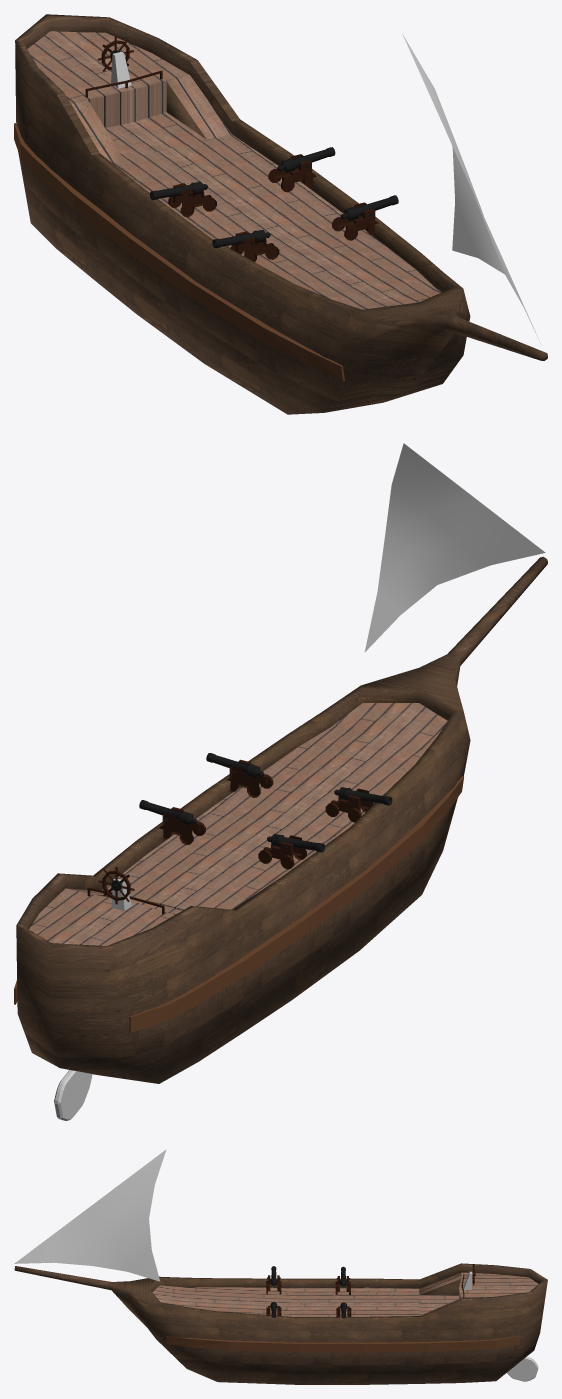
File: hull.obj
The picture shows the model from 3 angles, top to bottom: view 1: azimuth 30°, elevation 25°; view 2: azimuth 150°, elevation 25°; view 3: azimuth 270°, elevation 25°; orthographic projection. The views are drawn at different scales.
Visible parts, largest first — view 1: Cube_Cube_Hull, Cube_Cube_Deck, Cube.003_Cube.003_Hull2, Plane.006_Plane.002_SailCloth, CannonBarrel_Cylinder.002_Gunmetal, Cube.006_Cube.005_Wood, Cube.005_Cube.005_Wood, Cylinder.014_Cylinder.004_Wood, Cube.008_Cube.007_Deck; view 2: Cube_Cube_Hull, Cube_Cube_Deck, Plane.006_Plane.002_SailCloth, Cube.003_Cube.003_Hull2, CannonBarrel_Cylinder.002_Gunmetal, Cube.002_Cube.002_Hull, Cube.005_Cube.005_Wood; view 3: Cube_Cube_Hull, Cube_Cube_Deck, Plane.006_Plane.002_SailCloth, Cube.004_Cube.004_Hull2, Cube.002_Cube.002_Hull, CannonBarrel_Cylinder.002_Gunmetal.
Boxes of the visible parts, left/top/right/bottom form: Cube_Cube_Hull: left=15, top=14, right=547, bottom=414; Cube_Cube_Deck: left=27, top=31, right=441, bottom=309; Cube.003_Cube.003_Hull2: left=14, top=123, right=344, bottom=381; Plane.006_Plane.002_SailCloth: left=402, top=33, right=540, bottom=343; CannonBarrel_Cylinder.002_Gunmetal: left=149, top=147, right=398, bottom=247; Cube.006_Cube.005_Wood: left=182, top=154, right=375, bottom=255; Cube.005_Cube.005_Wood: left=173, top=160, right=366, bottom=251; Cylinder.014_Cylinder.004_Wood: left=203, top=168, right=357, bottom=259; Cube.008_Cube.007_Deck: left=111, top=51, right=131, bottom=88; Cube_Cube_Hull: left=16, top=556, right=547, bottom=1083; Cube_Cube_Deck: left=29, top=703, right=447, bottom=945; Plane.006_Plane.002_SailCloth: left=364, top=443, right=545, bottom=652; Cube.003_Cube.003_Hull2: left=129, top=776, right=463, bottom=1032; CannonBarrel_Cylinder.002_Gunmetal: left=139, top=753, right=392, bottom=852; Cube.002_Cube.002_Hull: left=54, top=1070, right=92, bottom=1120; Cube.005_Cube.005_Wood: left=171, top=766, right=360, bottom=859; Cube_Cube_Hull: left=14, top=1263, right=547, bottom=1384; Cube_Cube_Deck: left=152, top=1272, right=538, bottom=1316; Plane.006_Plane.002_SailCloth: left=14, top=1149, right=166, bottom=1281; Cube.004_Cube.004_Hull2: left=166, top=1335, right=520, bottom=1352; Cube.002_Cube.002_Hull: left=507, top=1356, right=538, bottom=1381; CannonBarrel_Cylinder.002_Gunmetal: left=270, top=1266, right=347, bottom=1318.
Size of the model in its own units: 2.39 by 5.34 by 11.14.
